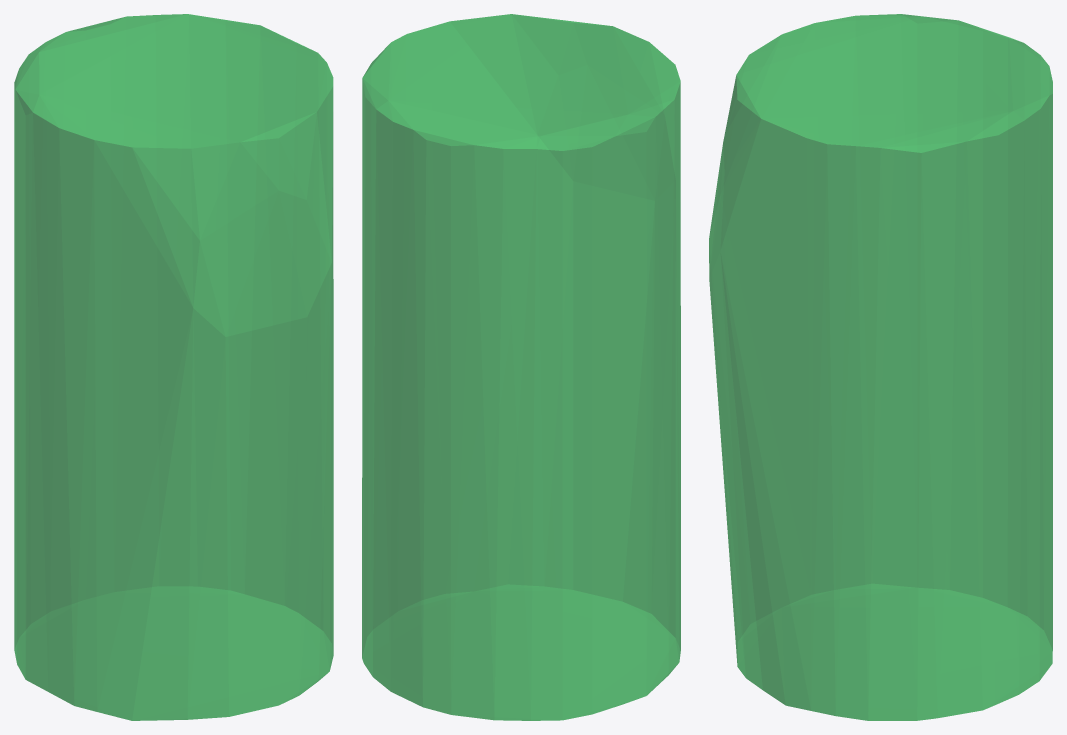
3 renders of one model, left to right at view 1: azimuth 30°, elevation 25°; view 2: azimuth 150°, elevation 25°; view 3: azimuth 270°, elevation 25°, orthographic.
Visible parts, largest first — view 1: Shape_IndexedFaceSet.001_Shape_IndexedFaceSet.13283; view 2: Shape_IndexedFaceSet.001_Shape_IndexedFaceSet.13283; view 3: Shape_IndexedFaceSet.001_Shape_IndexedFaceSet.13283.
Boxes of the visible parts, x1,y1,x2,y2 form: Shape_IndexedFaceSet.001_Shape_IndexedFaceSet.13283: (14, 14, 333, 720); Shape_IndexedFaceSet.001_Shape_IndexedFaceSet.13283: (362, 14, 680, 720); Shape_IndexedFaceSet.001_Shape_IndexedFaceSet.13283: (709, 14, 1052, 720).
Bounding box in the file's own units: 0.4663 × 0.9421 × 0.5054.
